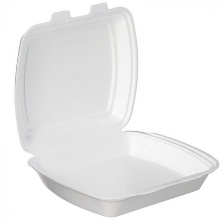foam_box: (9, 0, 222, 221)
